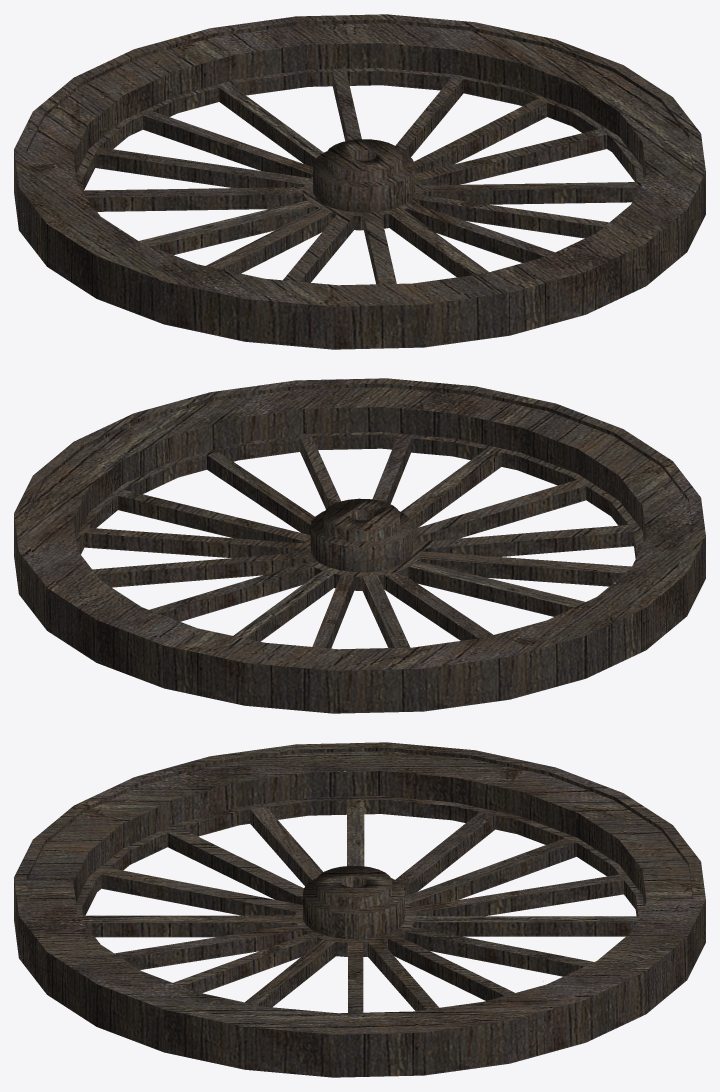
File: Wheel.fbx
3 views of the same model, one above another, from view 1: azimuth 30°, elevation 25°; view 2: azimuth 150°, elevation 25°; view 3: azimuth 270°, elevation 25° (orthographic).
Parts seen in each view (by area): view 1: Model; view 2: Model; view 3: Model.
Part boxes in pixels (x1,y1,x2,y2): Model: (14, 14, 705, 349); Model: (14, 378, 705, 713); Model: (14, 742, 705, 1077).
Size of the model in its own units: 10.97 by 0.875 by 10.97.
